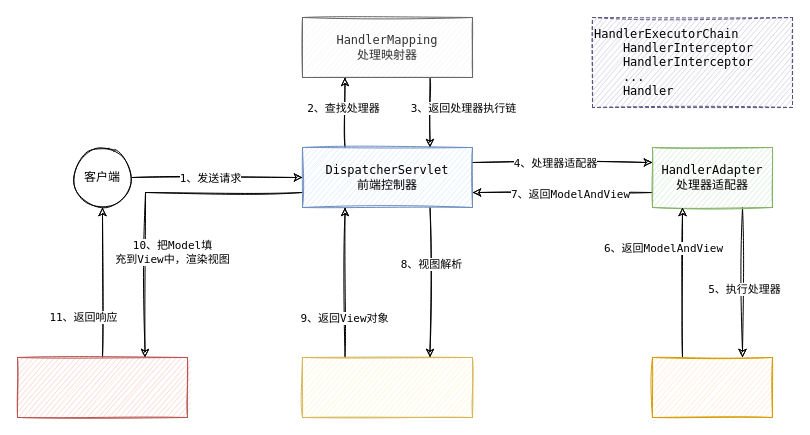
The diagram is 810 pixels wide and 435 high, and some of its shapes have lost their labels. The centre of each missing label's shape, as x and y in pixels:
Handler处理器 (Controller): the point at 712,387
View(视图) html、jsp、freemarker等: the point at 102,387
ViewResolver (视图解析器): the point at 387,387
